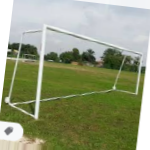goals: (8, 24, 143, 118)
